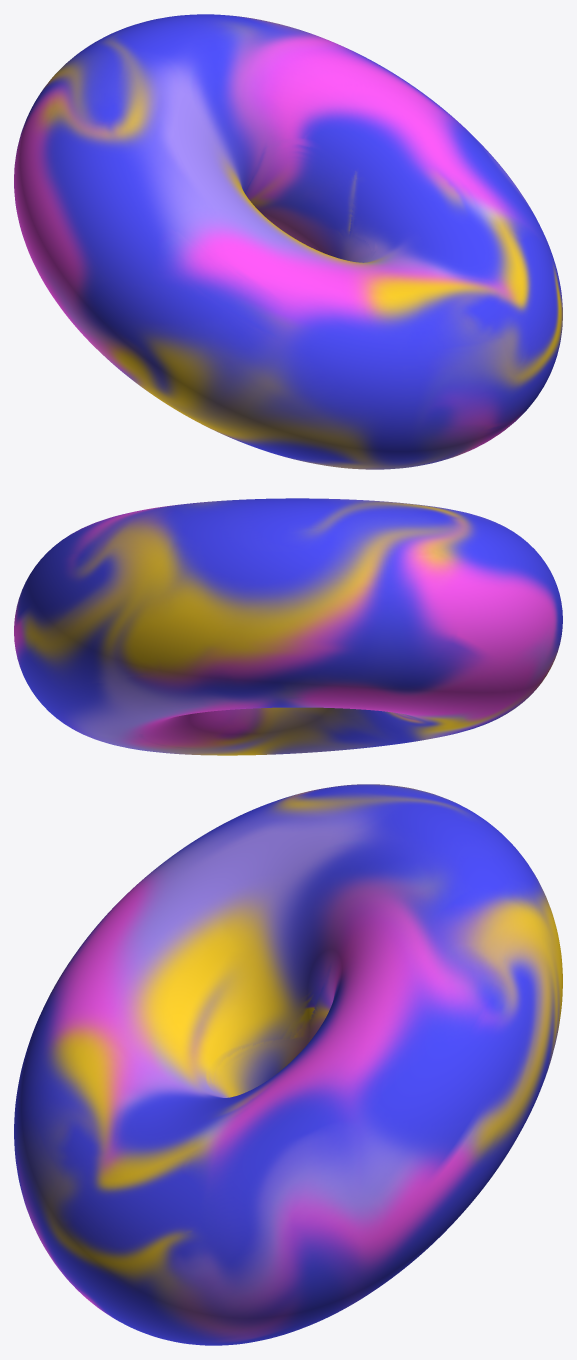
The model's file is blob5.gltf.
3 renders of one model, top to bottom at view 1: azimuth 30°, elevation 25°; view 2: azimuth 150°, elevation 25°; view 3: azimuth 270°, elevation 25°, orthographic. The views are drawn at different scales.
Parts seen in each view (by area): view 1: Torus; view 2: Torus; view 3: Torus.
Boxes of the visible parts, left/top/right/bottom form: Torus: left=14, top=14, right=562, bottom=469; Torus: left=14, top=498, right=562, bottom=755; Torus: left=14, top=784, right=562, bottom=1345.
Size of the model in its own units: 1.07 by 0.7587 by 0.9274.
1 material, 1 textured.
